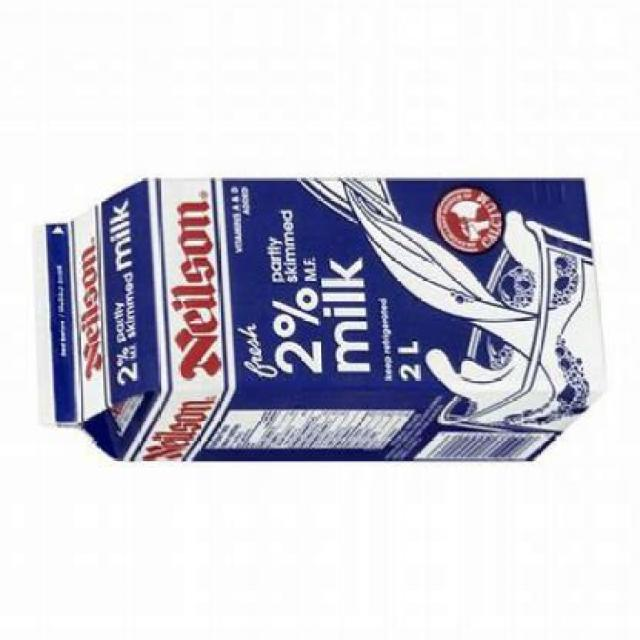non_white_jug: (30, 172, 612, 466)
